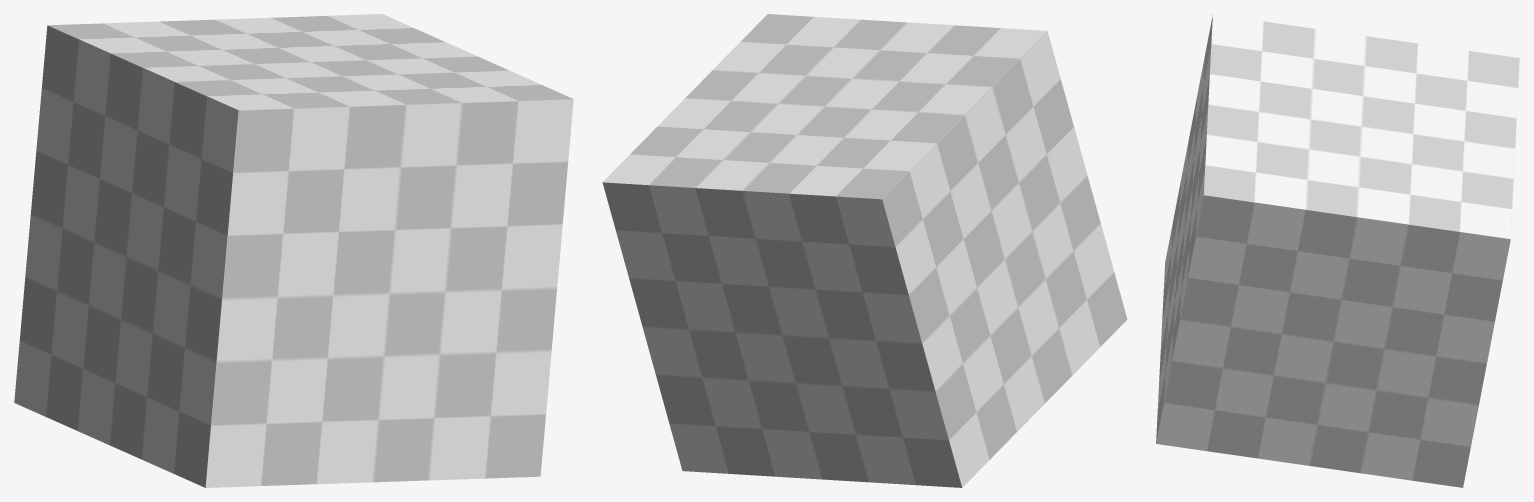
Rendered from csz.glb.
3 renders of one model, left to right at view 1: azimuth 30°, elevation 25°; view 2: azimuth 150°, elevation 25°; view 3: azimuth 270°, elevation 25°, orthographic. The views are drawn at different scales.
Parts seen in each view (by area): view 1: csz; view 2: csz; view 3: csz.
Boxes of the visible parts, x1,y1,x2,y2 form: csz: [14, 14, 573, 487]; csz: [602, 14, 1127, 487]; csz: [1156, 14, 1519, 487].
Size of the model in its own units: 156 by 174 by 156.
Materials: 1 (1 with a texture image).
